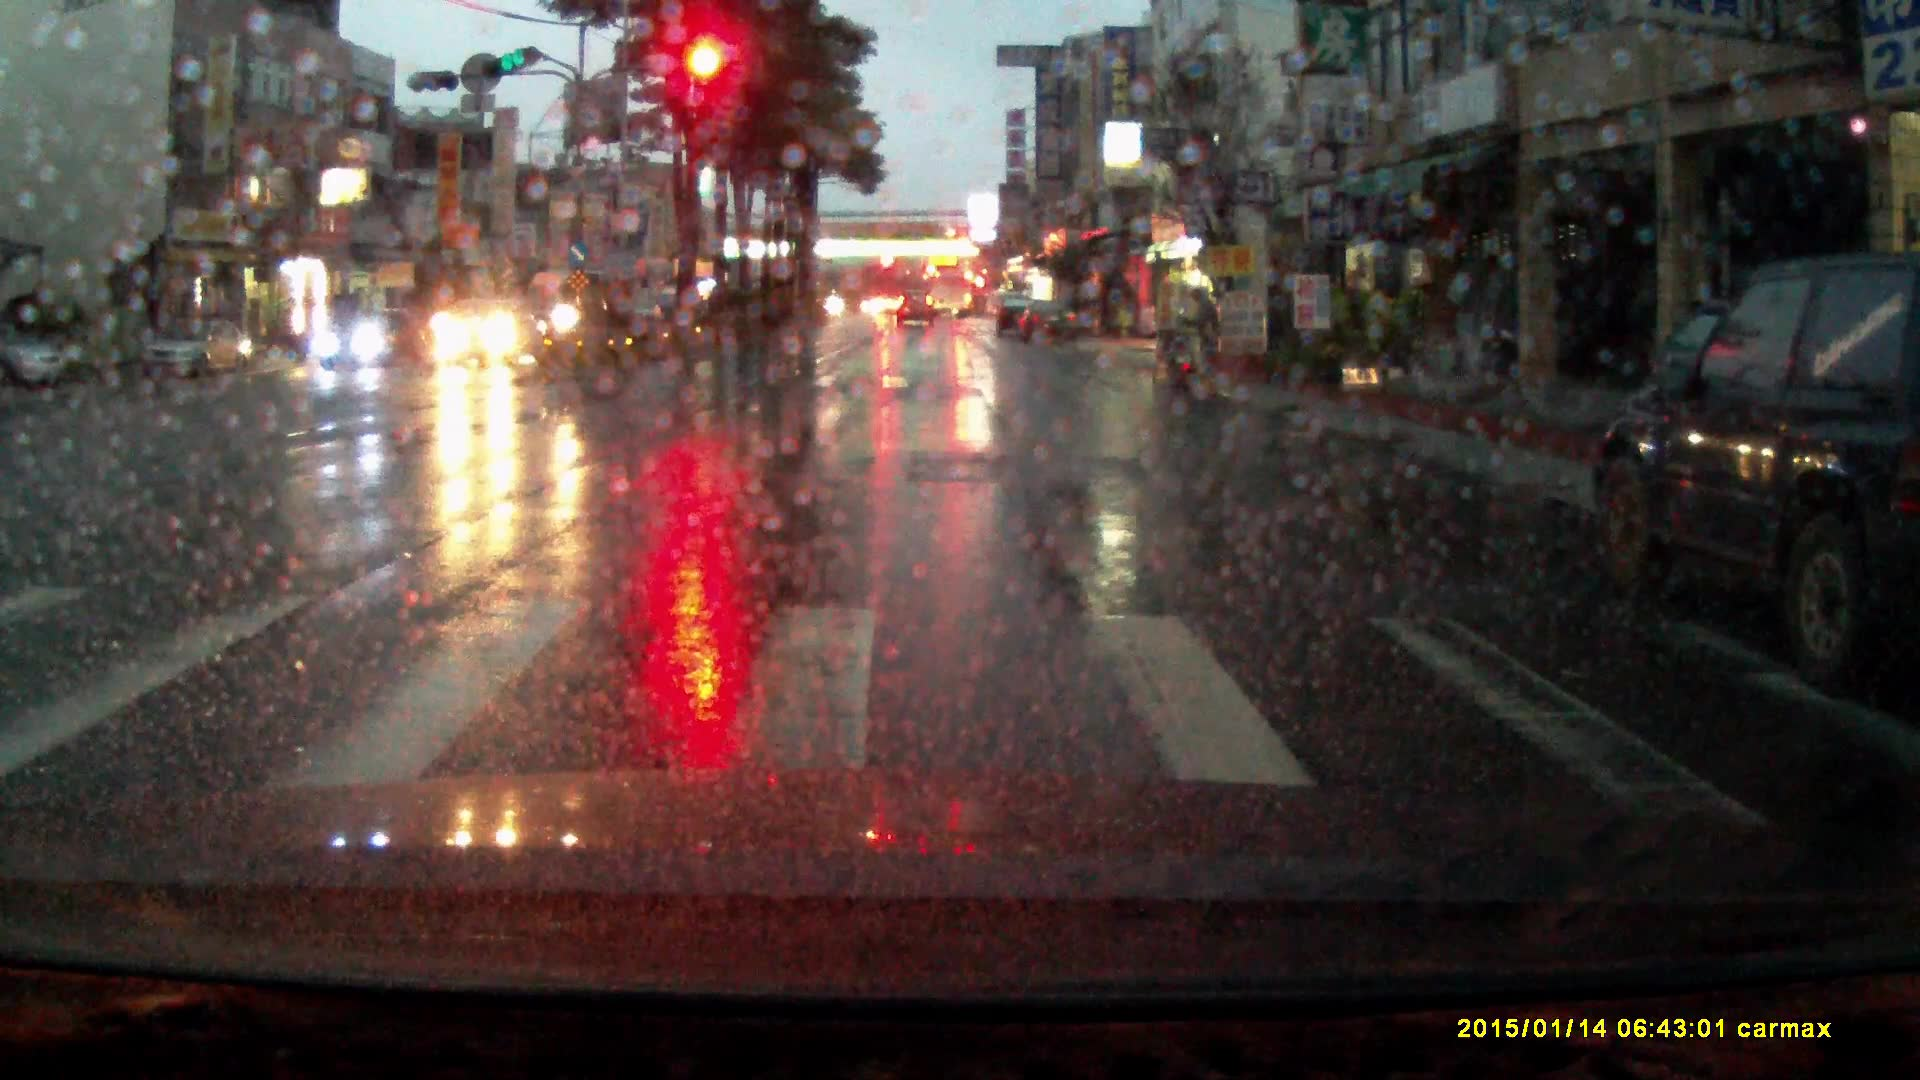vehicle: (1582, 248, 1920, 683), (431, 298, 546, 371), (316, 303, 430, 373), (142, 314, 253, 380), (527, 268, 608, 342), (1, 331, 69, 389), (1017, 301, 1079, 345), (930, 264, 972, 320), (898, 290, 938, 328), (996, 295, 1030, 338)
